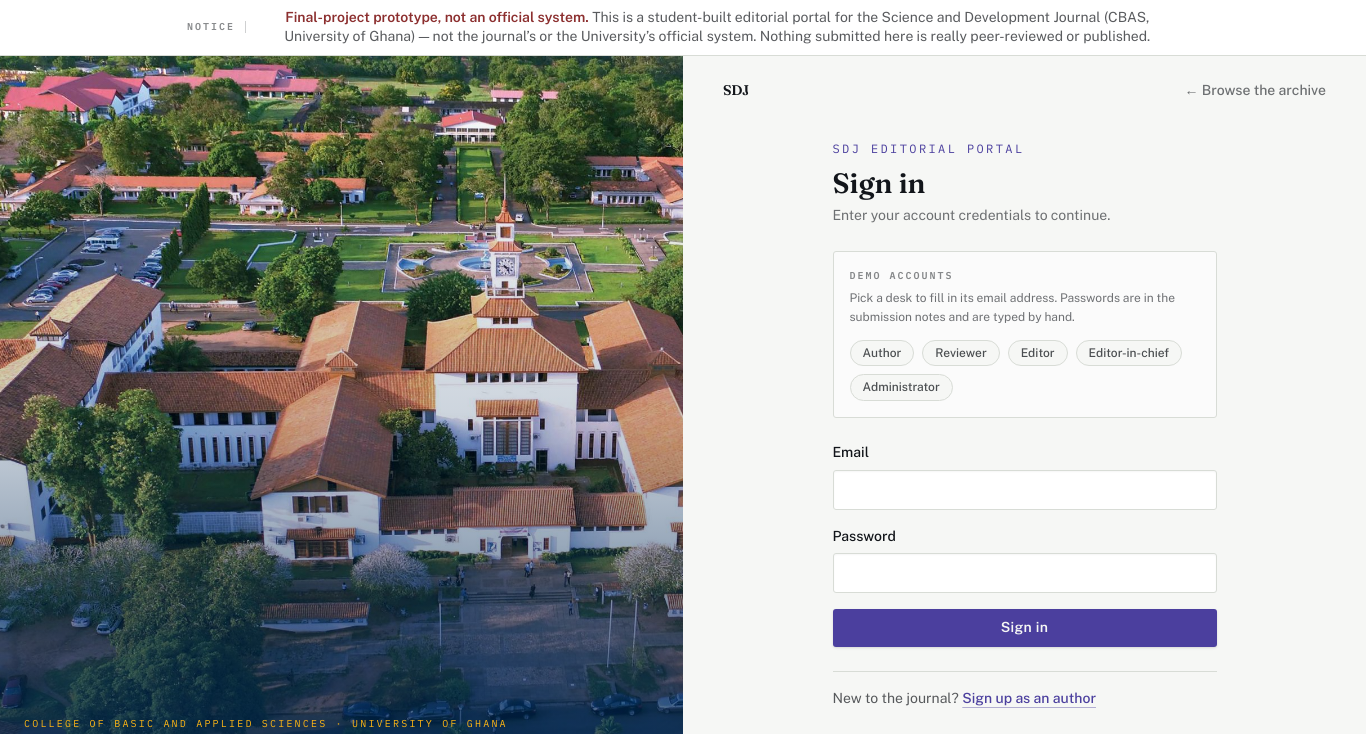
Test: LoginPage › shows the problem detail returned by the login route on failure
The image size is (1366, 734).
Type "author@sdj.test" into the field labelled "Email" at (1024, 490), box [832,470,1216,510]
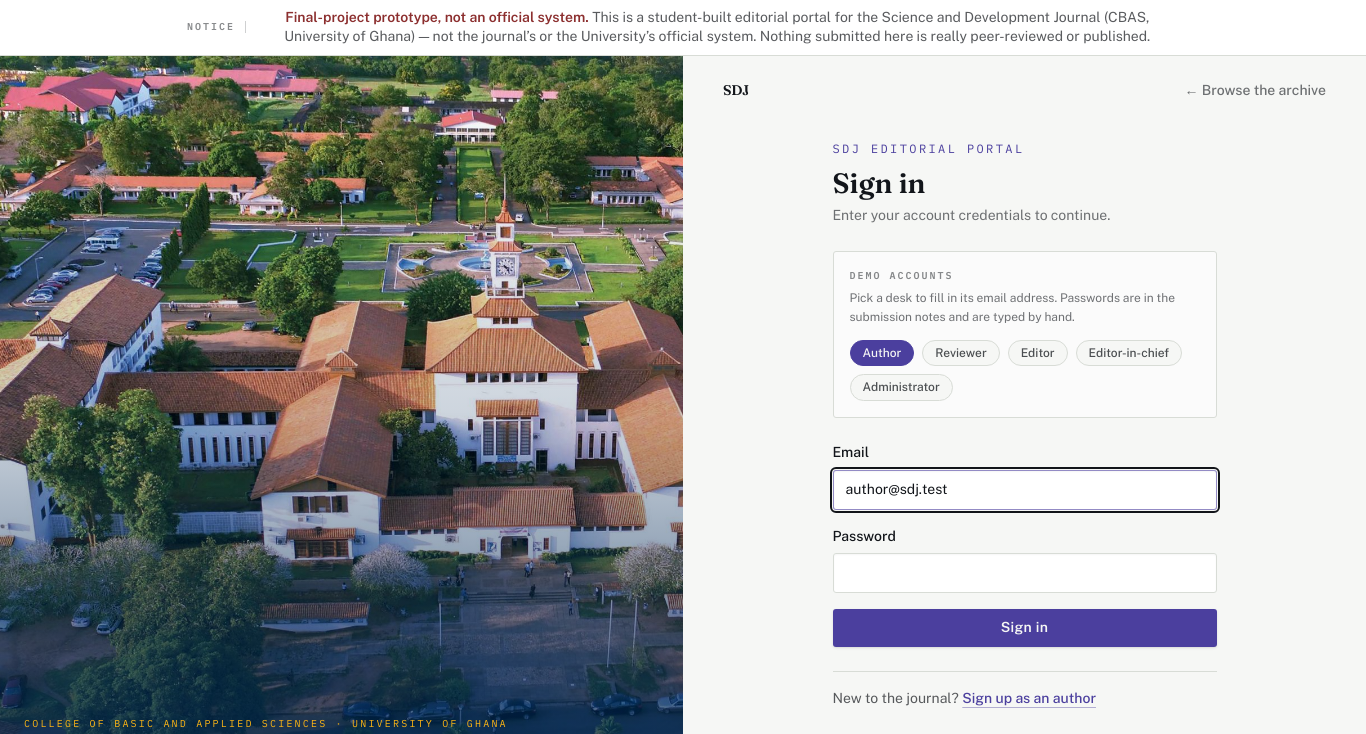
Type "wrong-password" into the password field labelled "Password" at (1024, 573), box [832,553,1216,593]
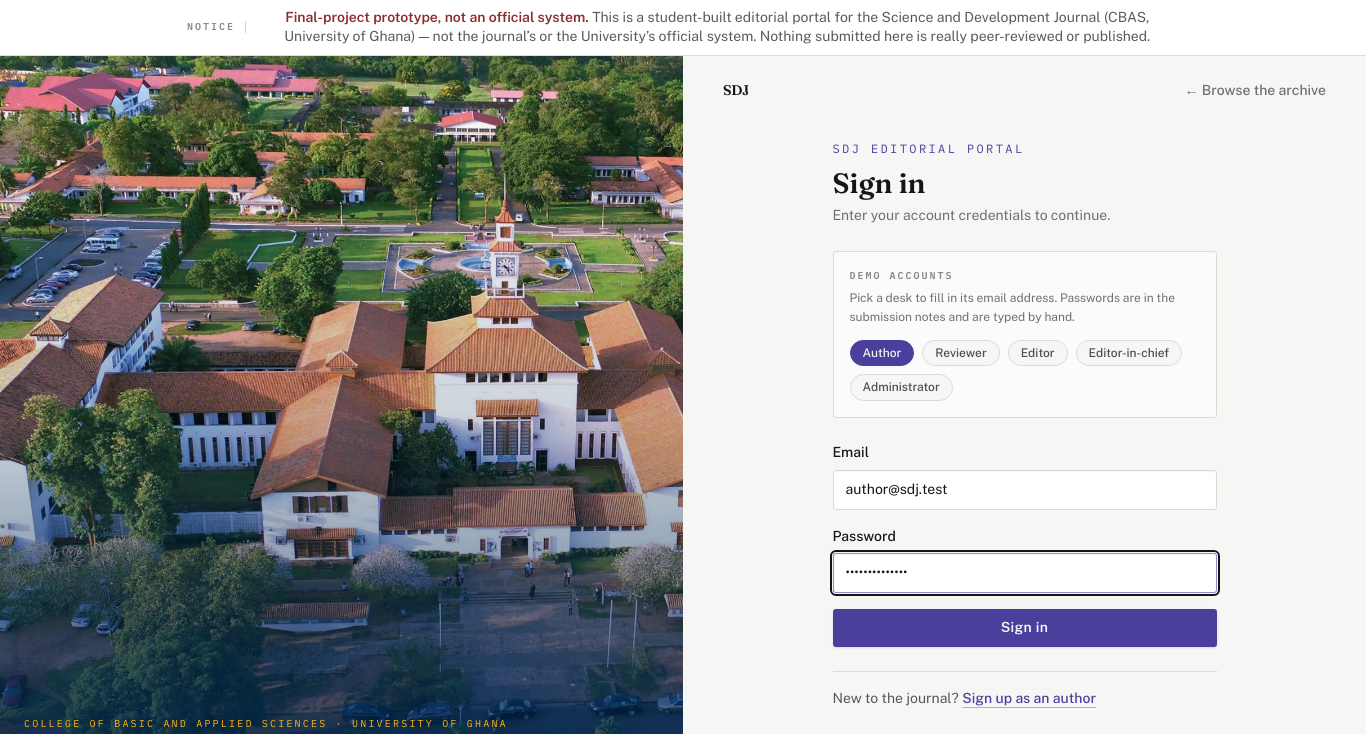
Click the button "Sign in" at (1024, 628), box [832,609,1216,647]
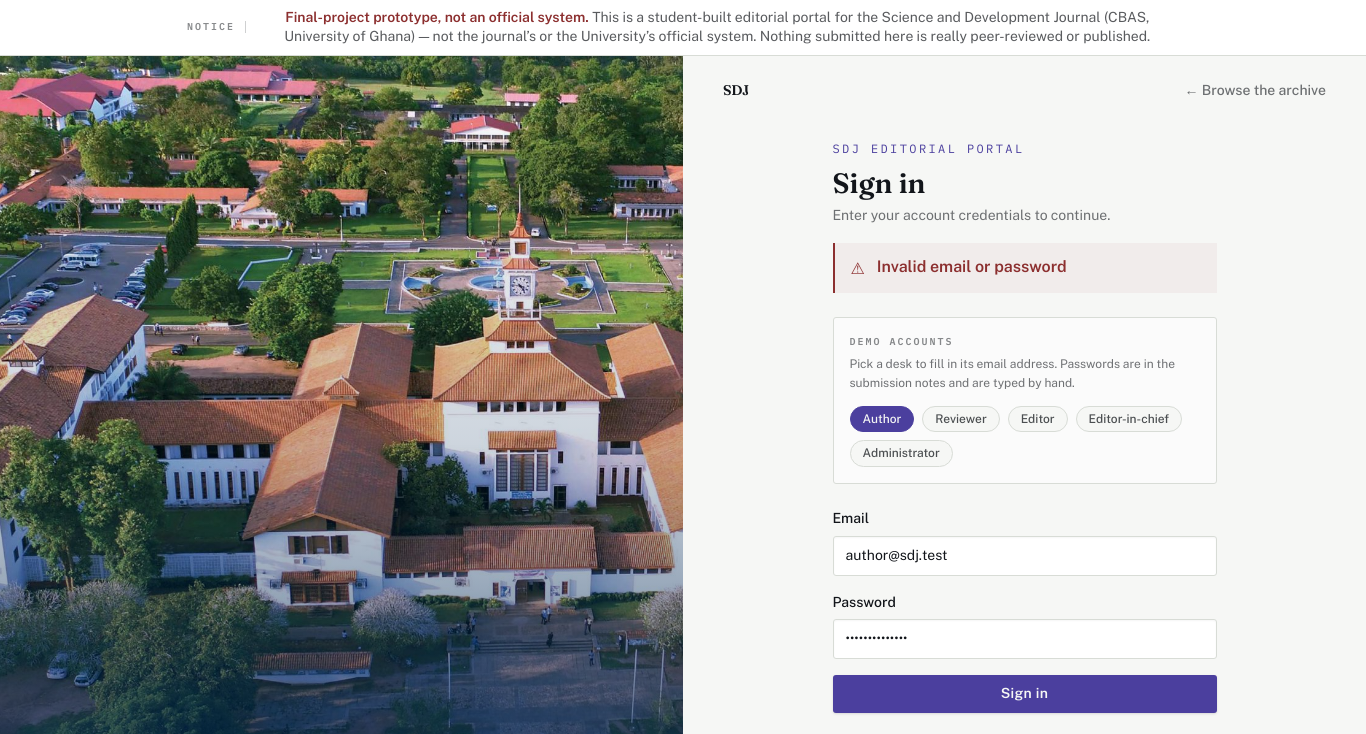
Result: the message shows "Invalid email or password" at [877,257,1067,276]
